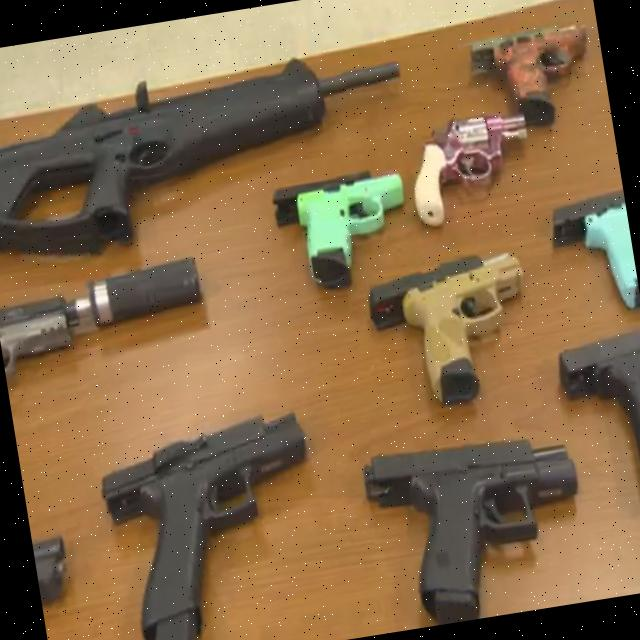Handgun: (95, 405, 338, 640), (358, 422, 594, 630), (0, 258, 210, 388), (390, 251, 542, 411), (268, 158, 422, 298), (402, 99, 548, 236), (552, 332, 640, 538), (462, 10, 590, 131), (544, 184, 640, 316)
